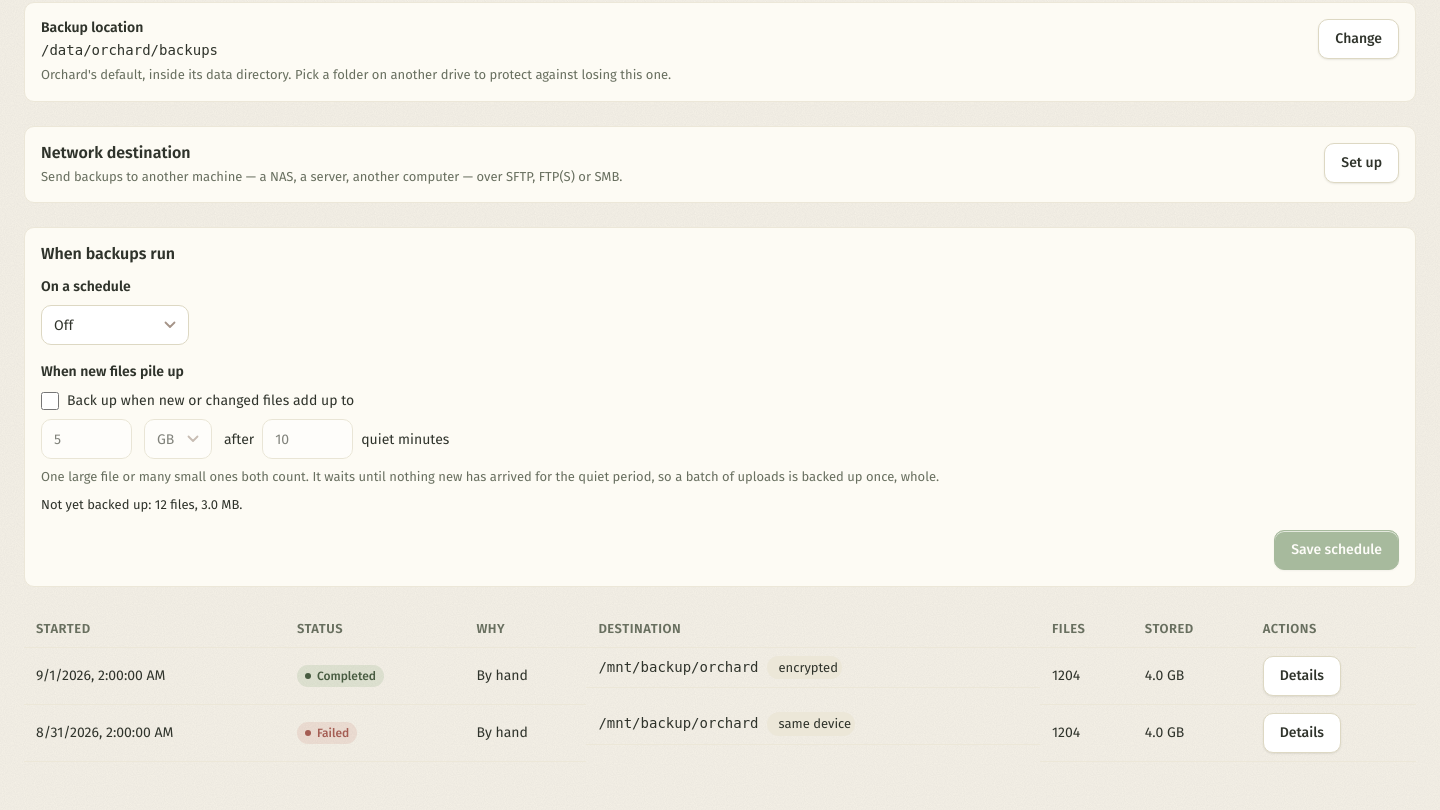
Test case: BackupsPage › will not verify or restore a backup that did not finish
(page scrolled)
Click the button with test id "backup-open-b2". click: [1302, 732]
box: [1263,712,1341,752]
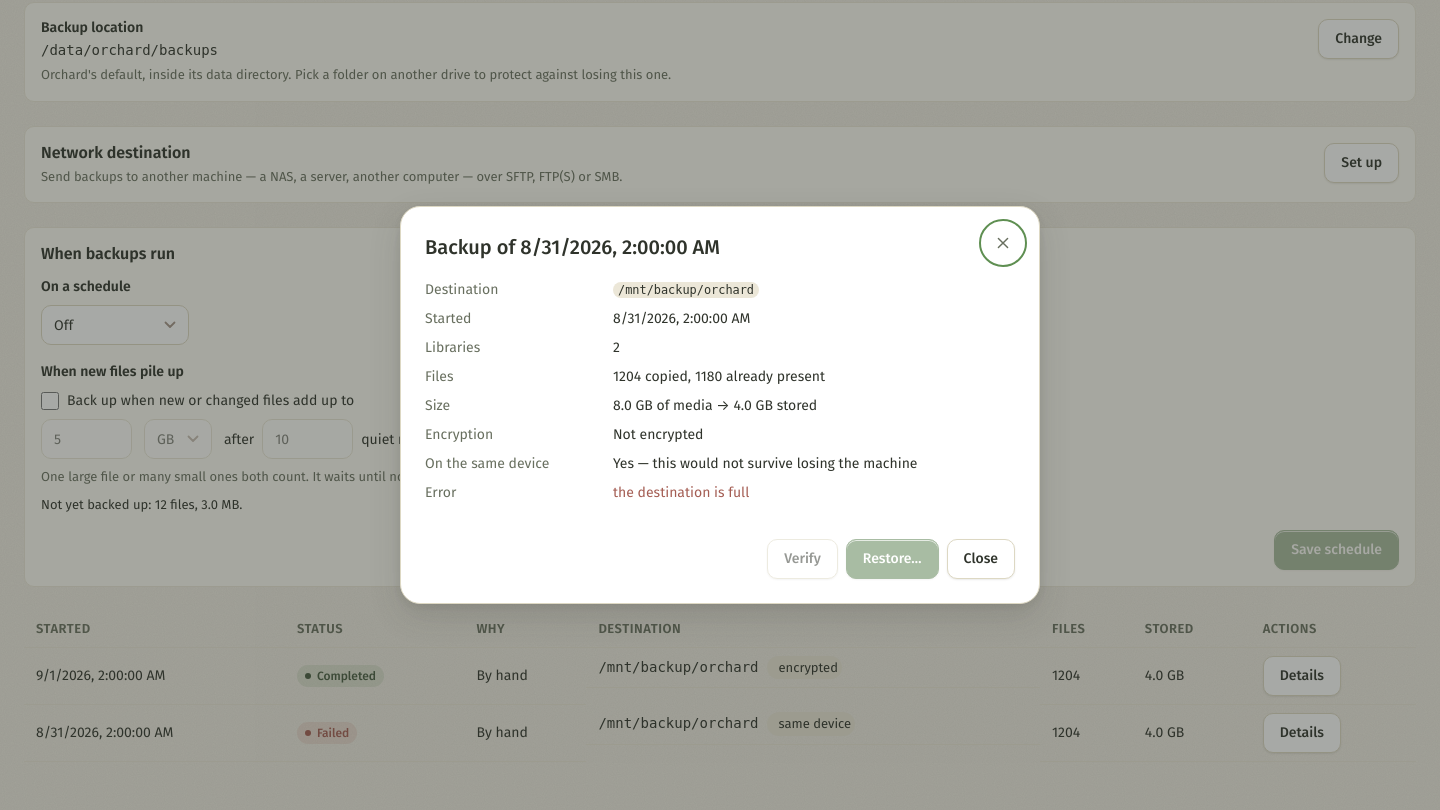
Result: the text "the destination is full" is shown at [613,482,749,503]
Result: the button with test id "verify-backup" is disabled at [767,539,838,579]
Result: the button with test id "open-restore-backup" is disabled at [846,539,939,579]
